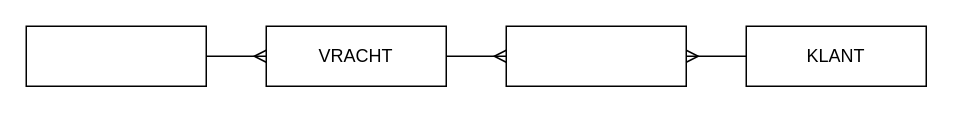
Image size: 953x113. Some labels were removed from this diagram. The box of each missing label's shape, as (x1, y1, x2, y2) in pixels:
VRACHTAUTO: (25, 25, 206, 86)
VRACHTREGEL: (505, 25, 686, 86)
